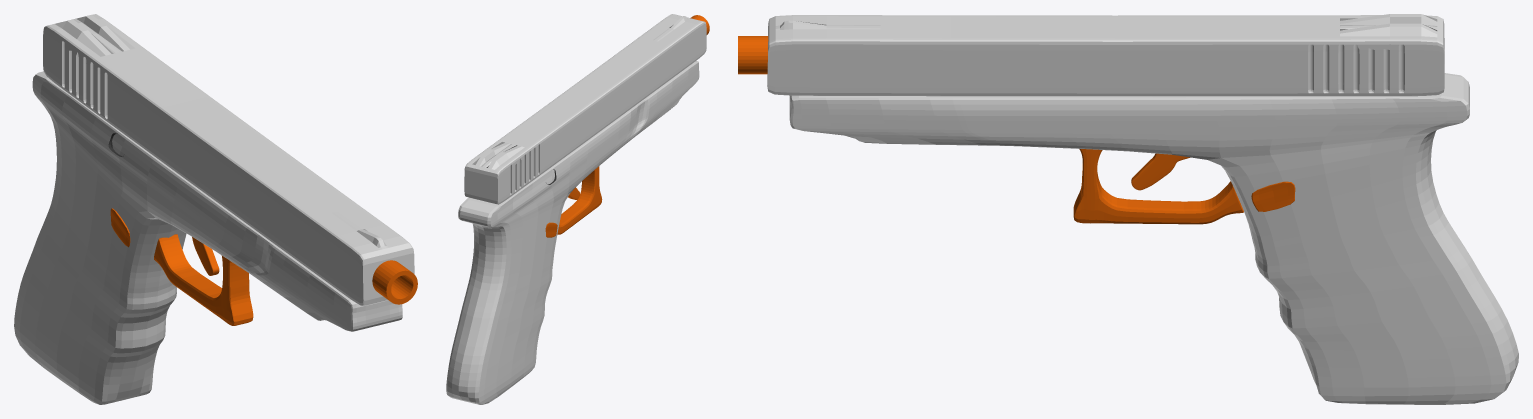
File: glockfinal.fbx
3 views of the same model, side by side, from view 1: azimuth 30°, elevation 25°; view 2: azimuth 150°, elevation 25°; view 3: azimuth 270°, elevation 25° (orthographic). The views are drawn at different scales.
Parts seen in each view (by area): view 1: trigger guard, slide, orange barrell, trigger; view 2: trigger guard, slide; view 3: trigger guard, slide, orange barrell, trigger.
Boxes of the visible parts, x1,y1,x2,y2 form: trigger guard: [14, 71, 402, 404]; slide: [43, 14, 414, 305]; orange barrell: [372, 260, 417, 304]; trigger: [192, 237, 219, 275]; trigger guard: [446, 61, 699, 404]; slide: [464, 14, 706, 204]; trigger guard: [789, 73, 1518, 404]; slide: [767, 14, 1444, 96]; orange barrell: [738, 36, 768, 74]; trigger: [1131, 153, 1190, 190].
Bounding box in the file's own units: 31.78 × 174 × 332.
